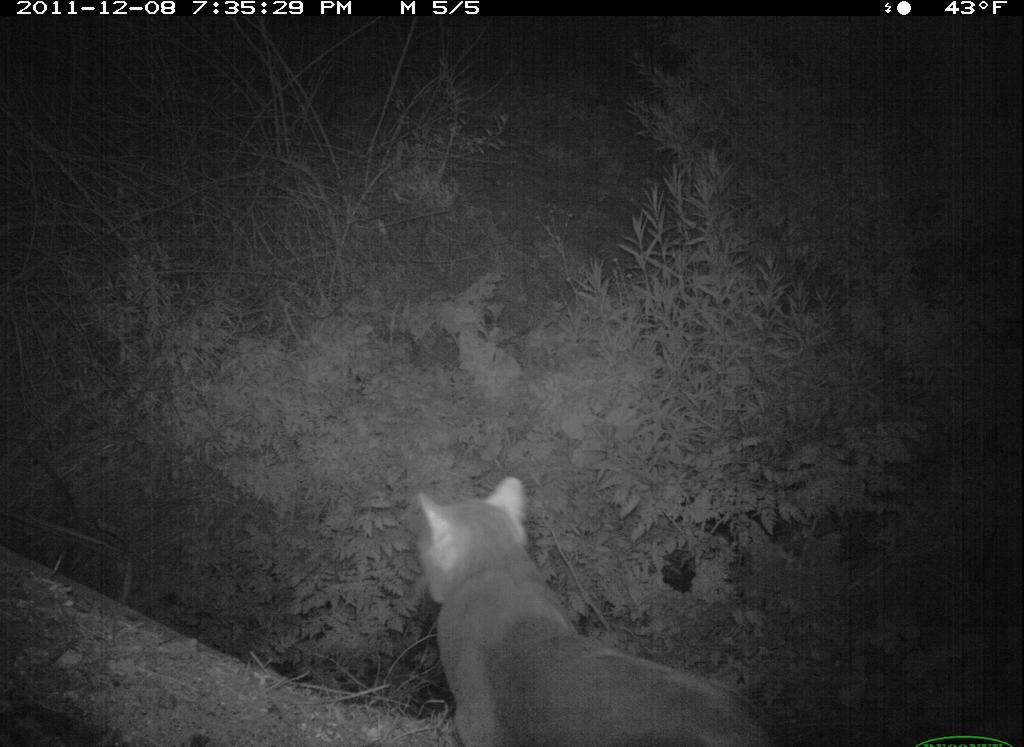cat: (409, 468, 793, 747)
